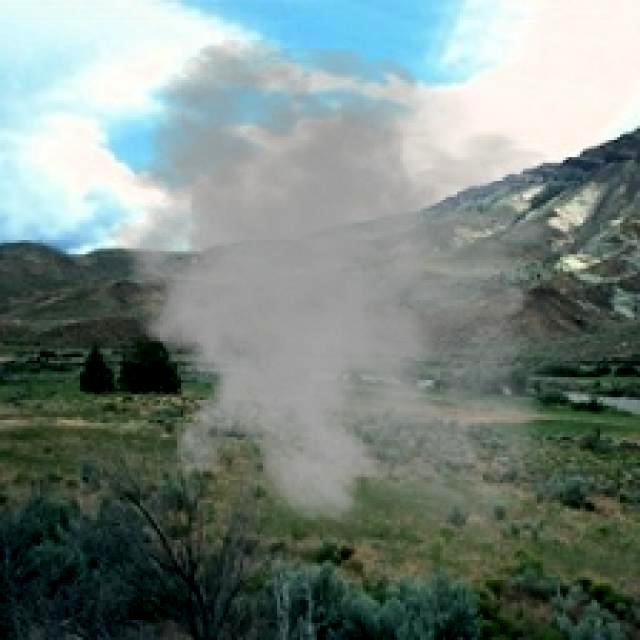Smoke: (92, 37, 609, 572)
